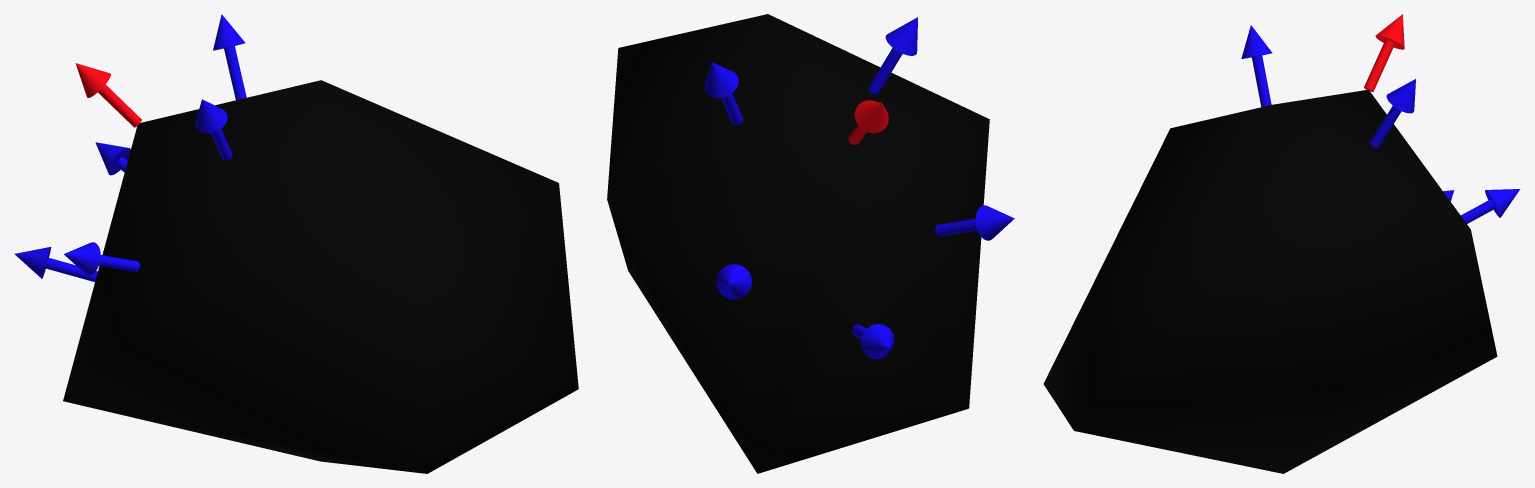
File: average-normal.glb
The picture shows the model from 3 angles, left to right: view 1: azimuth 30°, elevation 25°; view 2: azimuth 150°, elevation 25°; view 3: azimuth 270°, elevation 25°; orthographic projection. The views are drawn at different scales.
Parts seen in each view (by area): view 1: Cube; view 2: Cube; view 3: Cube.
Part boxes in pixels (bbox=[...]): Cube: bbox=[14, 14, 578, 473]; Cube: bbox=[607, 14, 1014, 473]; Cube: bbox=[1043, 14, 1520, 473].
Bounding box in the file's own units: 2.24 × 2.01 × 2.25.
